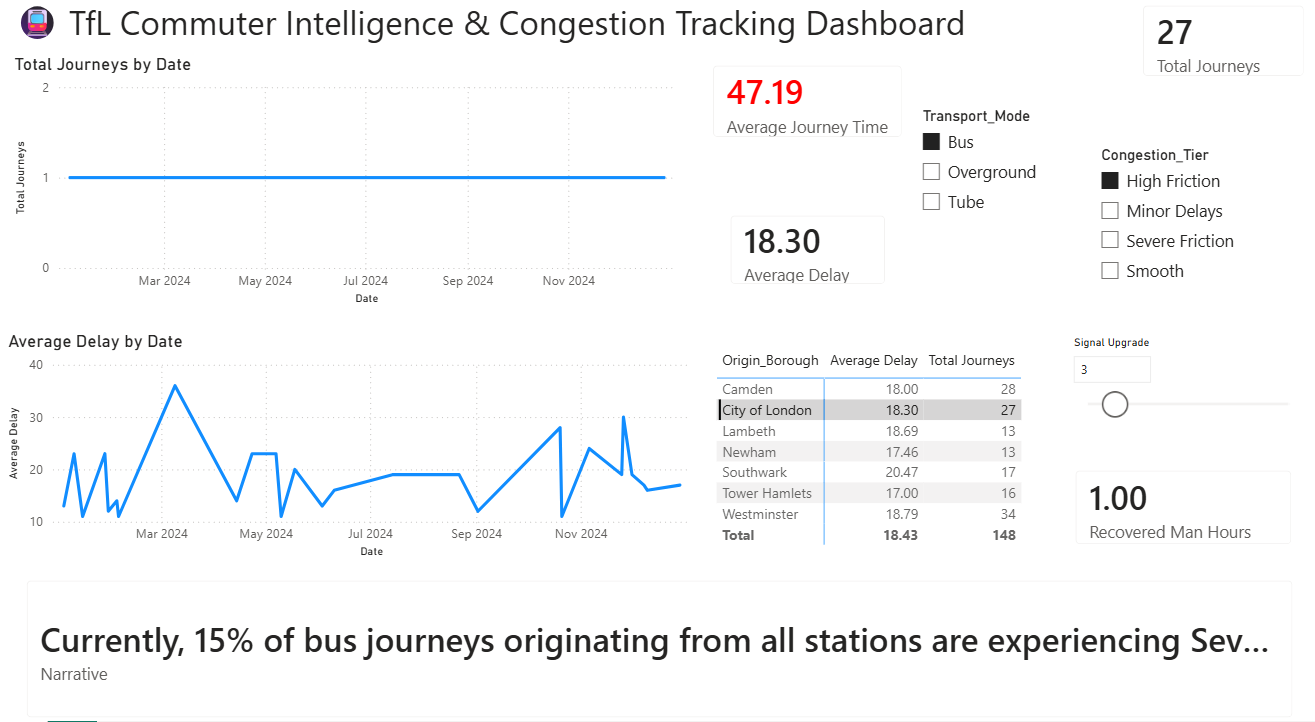

The page's visual inventory and layout, read from the dashboard file:
{"tool":"powerbi","page":{"name":"Page 1","canvas":[1280,720],"ordinal":0},"visuals":[{"type":"cardVisual","fields":{"Data":["tfl_commuter tfl_commuter_trends.Total Journeys"]},"box":[1091.1,0,189.2,102.2],"z":0},{"type":"cardVisual","fields":{"Data":["tfl_commuter tfl_commuter_trends.Average Delay"]},"box":[694.3,203,183.1,100.7],"z":1000},{"type":"cardVisual","fields":{"Data":["tfl_commuter tfl_commuter_trends.Average Journey Time"]},"box":[677.5,58,216.7,103.8],"z":2000},{"type":"lineChart","fields":{"Category":["Calendar.Date"],"Y":["tfl_commuter tfl_commuter_trends.Total Journeys"]},"box":[15.3,62.6,662.3,247.2],"z":3000},{"type":"lineChart","fields":{"Category":["Calendar.Date"],"Y":["tfl_commuter tfl_commuter_trends.Average Delay"]},"box":[9.2,329.6,683.6,224.3],"z":4000},{"type":"slicer","fields":{"Values":["tfl_commuter tfl_commuter_trends.Transport_Mode"]},"box":[883.6,109.9,172.4,129.7],"z":5000},{"type":"slicer","fields":{"Values":["tfl_commuter tfl_commuter_trends.Congestion_Tier"]},"box":[1056,146.5,213.6,157.2],"z":6000},{"type":"pivotTable","fields":{"Rows":["tfl_commuter tfl_commuter_trends.Origin_Borough"],"Values":["tfl_commuter tfl_commuter_trends.Average Delay","tfl_commuter tfl_commuter_trends.Total Journeys"]},"box":[692.8,341.8,334.2,212.1],"z":7000},{"type":"slicer","fields":{"Values":["Signal Upgrade.Signal Upgrade"]},"box":[1028.5,329.6,242.6,103.8],"z":8000},{"type":"cardVisual","fields":{"Data":["tfl_commuter tfl_commuter_trends.Recovered Man Hours"]},"box":[1027,448.6,242.6,105.3],"z":9000},{"type":"cardVisual","fields":{"Data":["tfl_commuter tfl_commuter_trends.Narrative"]},"box":[15.3,553.9,1254.4,166.3],"z":10000},{"type":"textbox","box":[15.3,6.1,947.6,56.5],"z":10001}]}

Visuals, with their boxes in screenshot pixels (x1, y1, x2, y2), scaled from the page's 1280x720 canvas onto the 1315x722 screenshot:
cardVisual - tfl_commuter tfl_commuter_trends.Total Journeys: rect(1121, 0, 1314, 102)
cardVisual - tfl_commuter tfl_commuter_trends.Average Delay: rect(713, 204, 901, 305)
cardVisual - tfl_commuter tfl_commuter_trends.Average Journey Time: rect(696, 58, 919, 162)
lineChart - Calendar.Date x tfl_commuter tfl_commuter_trends.Total Journeys: rect(16, 63, 696, 311)
lineChart - Calendar.Date x tfl_commuter tfl_commuter_trends.Average Delay: rect(9, 331, 712, 555)
slicer - tfl_commuter tfl_commuter_trends.Transport_Mode: rect(908, 110, 1085, 240)
slicer - tfl_commuter tfl_commuter_trends.Congestion_Tier: rect(1085, 147, 1304, 305)
pivotTable - tfl_commuter tfl_commuter_trends.Origin_Borough x tfl_commuter tfl_commuter_trends.Average Delay: rect(712, 343, 1055, 555)
slicer - Signal Upgrade.Signal Upgrade: rect(1057, 331, 1306, 435)
cardVisual - tfl_commuter tfl_commuter_trends.Recovered Man Hours: rect(1055, 450, 1304, 555)
cardVisual - tfl_commuter tfl_commuter_trends.Narrative: rect(16, 555, 1304, 721)
textbox: rect(16, 6, 989, 63)
